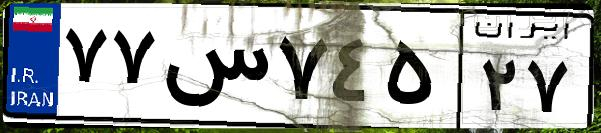2: (475, 38, 525, 113)
4: (330, 28, 385, 110)
5: (385, 28, 445, 110)
7: (270, 28, 330, 110), (57, 26, 110, 100), (525, 38, 570, 115), (110, 28, 158, 98)
س: (158, 20, 270, 120)
